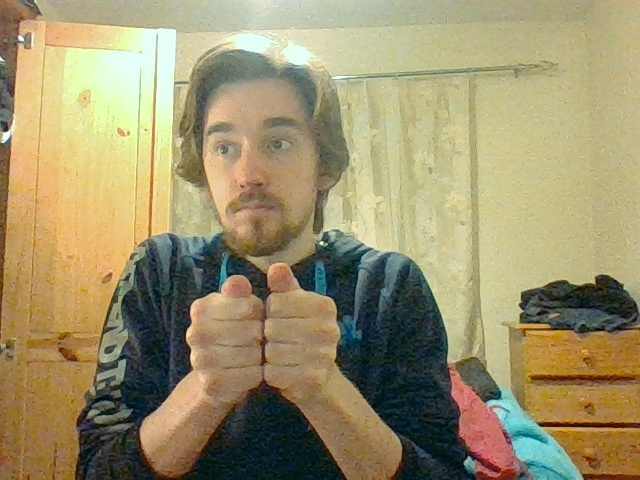brother: (184, 262, 341, 389)
